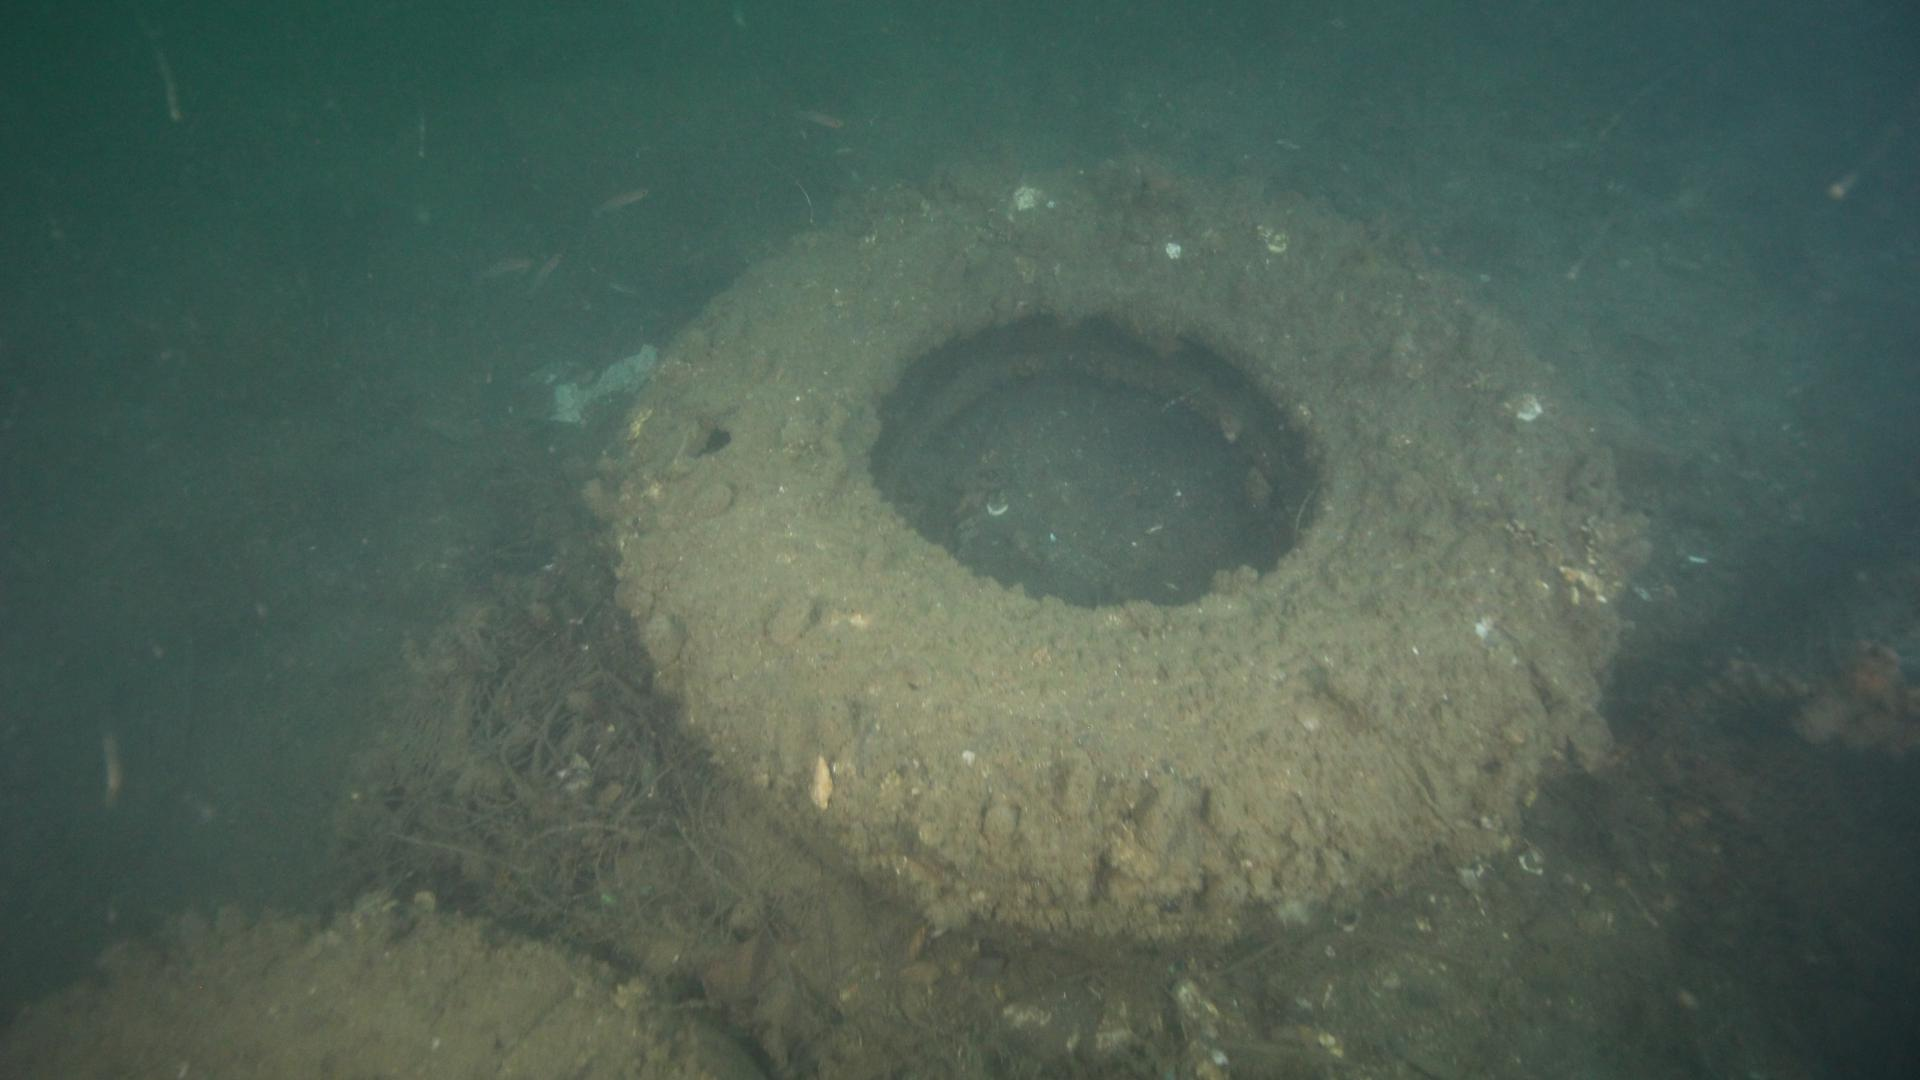tire: (620, 152, 1633, 957)
